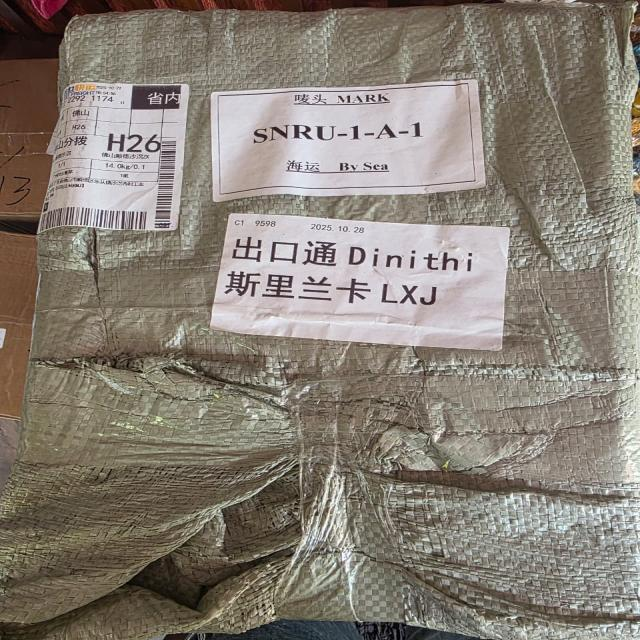export_mark_label: (208, 213, 547, 353), (207, 75, 505, 200), (40, 79, 244, 250)
